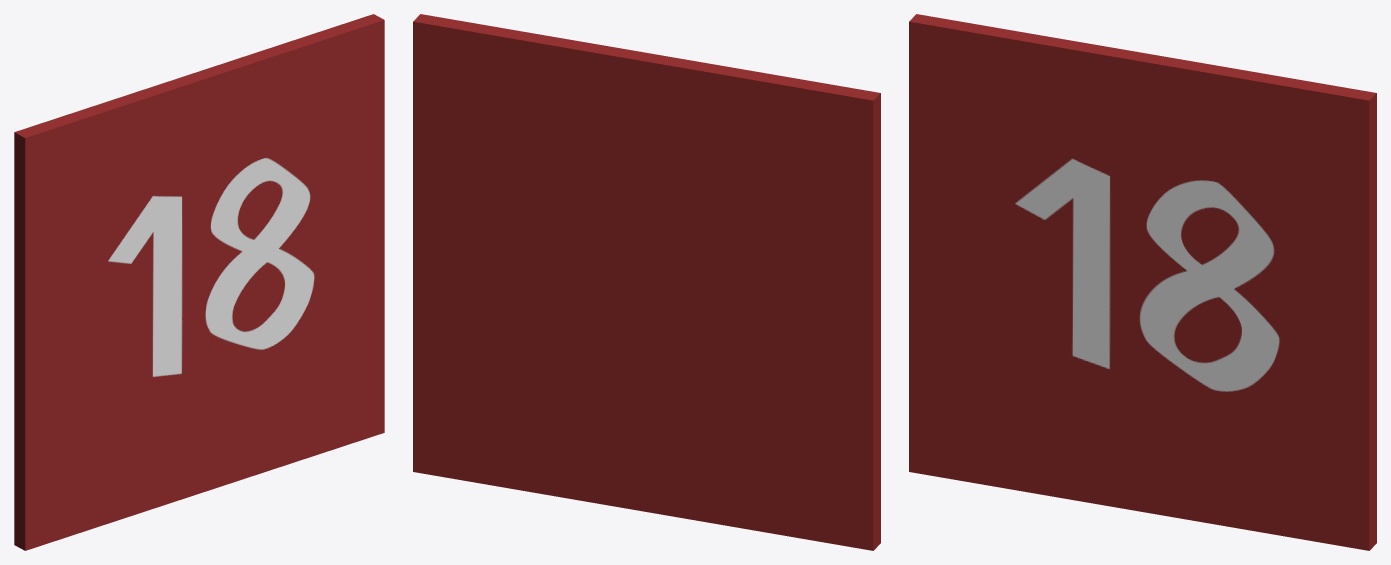
Rendered from flap17.glb.
The picture shows the model from 3 angles, left to right: view 1: azimuth 30°, elevation 25°; view 2: azimuth 150°, elevation 25°; view 3: azimuth 330°, elevation 25°; orthographic projection. The views are drawn at different scales.
Visible parts, largest first — view 1: flap.017; view 2: flap.017; view 3: flap.017.
Boxes of the visible parts, x1,y1,x2,y2 form: flap.017: (14,14,384,550); flap.017: (413,14,880,550); flap.017: (909,14,1376,550).
Bounding box in the file's own units: 0.249 × 0.25 × 0.0441.
1 material, 1 textured.
